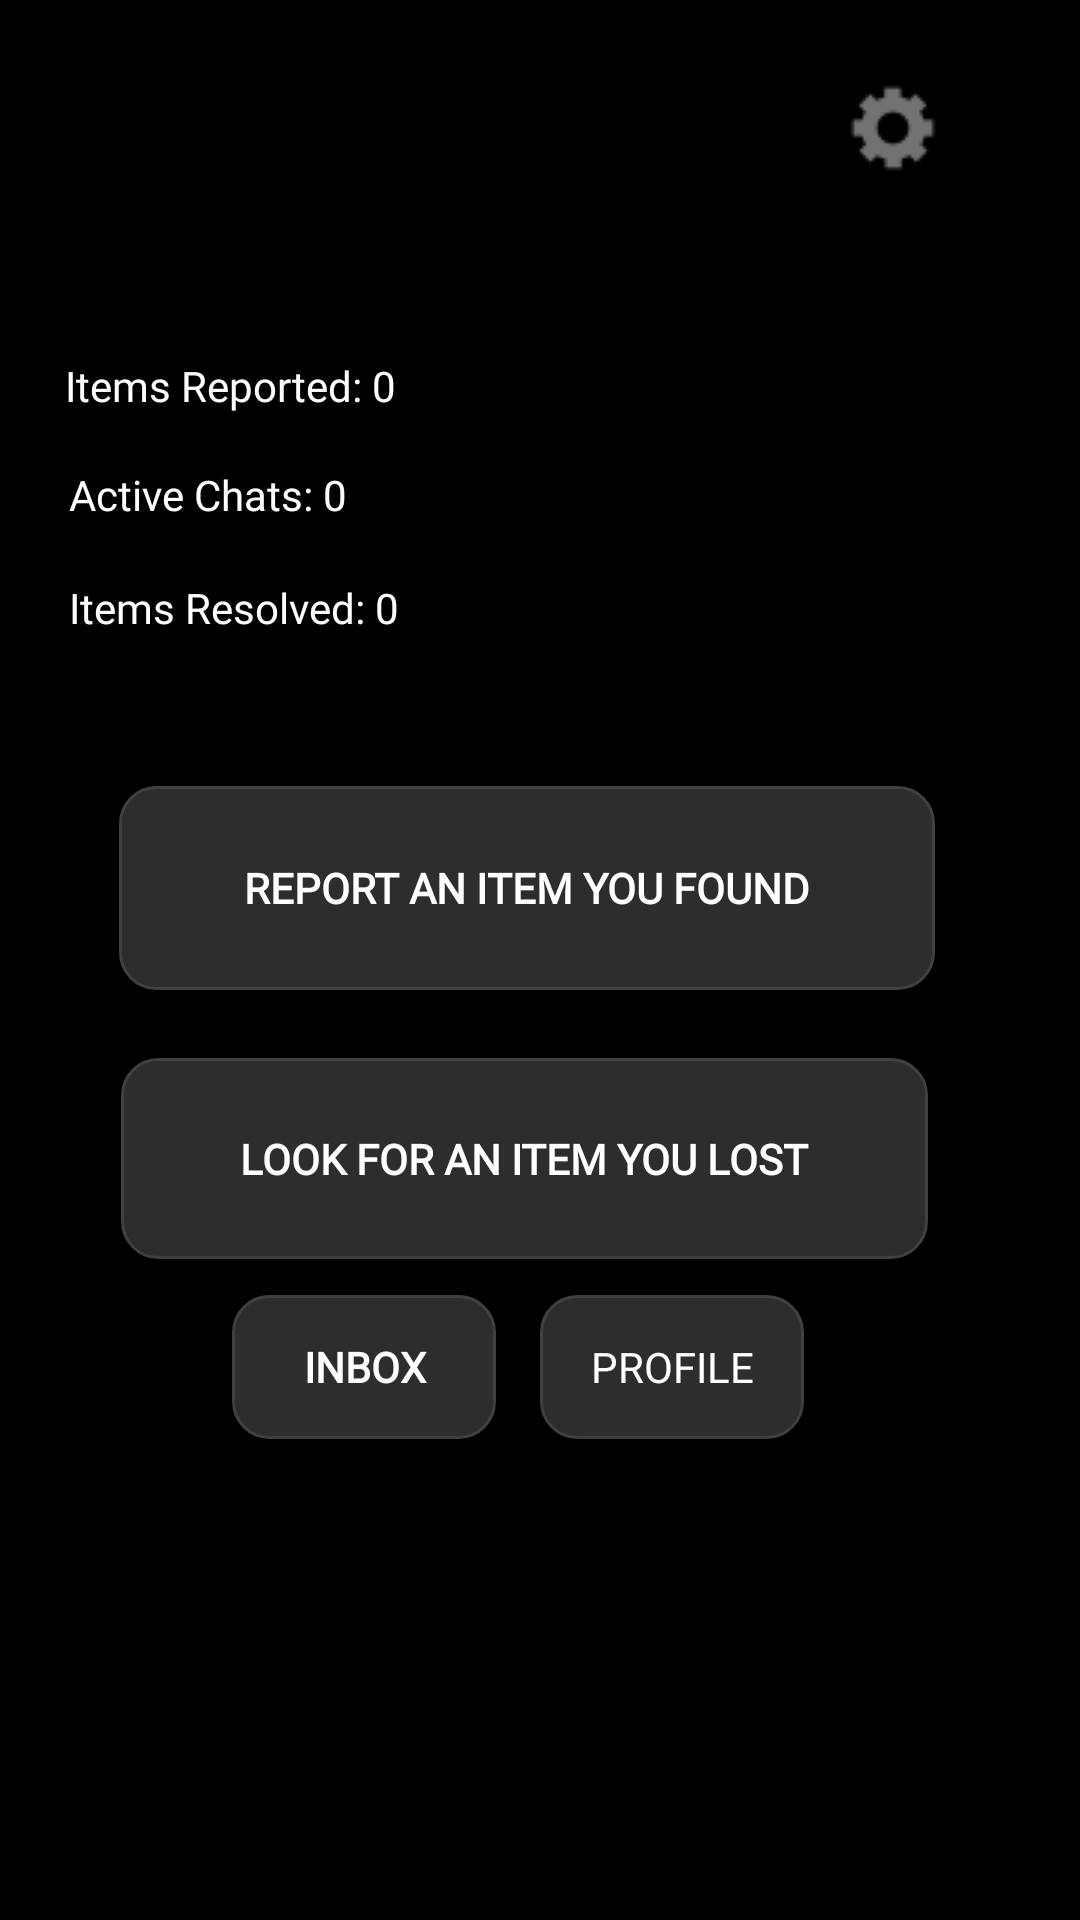

Screen size 1080x1920. Icon name, then its center in pixels as [x,y]:
Settings: [893,128]
